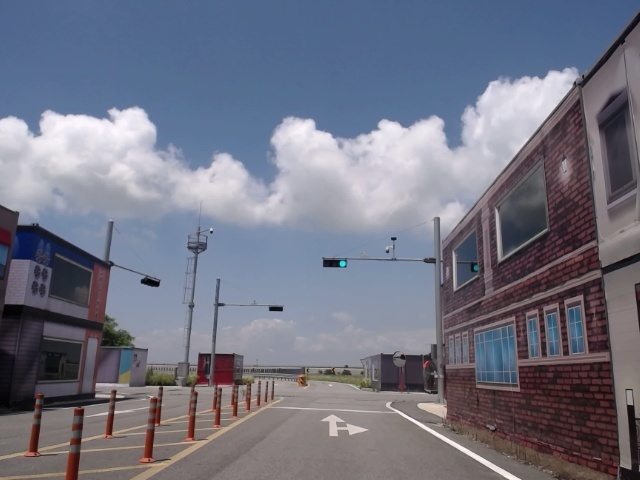green_3: (323, 260, 346, 267)
